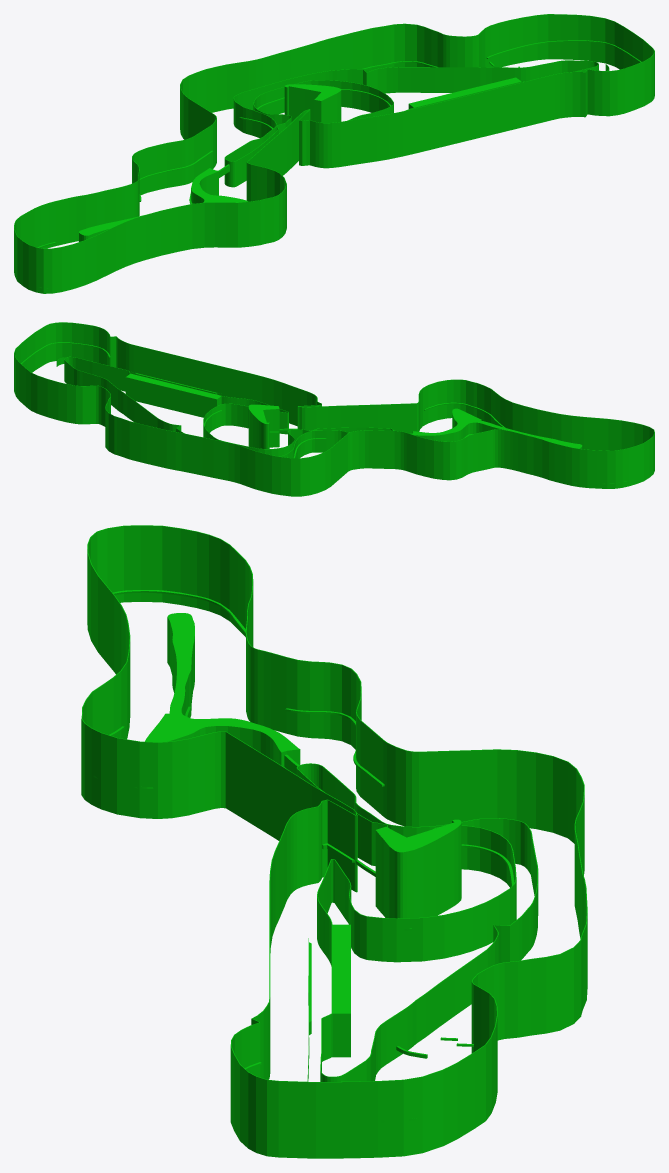
Rendered from nurburg_colliders.FBX.
3 views of the same model, one above another, from view 1: azimuth 30°, elevation 25°; view 2: azimuth 150°, elevation 25°; view 3: azimuth 270°, elevation 25° (orthographic). The views are drawn at different scales.
Parts seen in each view (by area): view 1: nurburg_collider_003, nurburg_collider_001, nurburg_collider_004, nurburg_collider_002, nurburg_collider_007, nurburg_collider_006; view 2: nurburg_collider_003, nurburg_collider_001, nurburg_collider_006, nurburg_collider_002, nurburg_collider_004, nurburg_collider_007; view 3: nurburg_collider_003, nurburg_collider_001, nurburg_collider_004, nurburg_collider_002, nurburg_collider_006, nurburg_collider_007.
Boxes of the visible parts, <box> form: nurburg_collider_003: <box>14,14,654,293</box>; nurburg_collider_001: <box>224,60,598,187</box>; nurburg_collider_004: <box>284,84,341,122</box>; nurburg_collider_002: <box>79,168,247,241</box>; nurburg_collider_007: <box>37,40,641,288</box>; nurburg_collider_006: <box>408,77,521,108</box>; nurburg_collider_003: <box>14,322,654,496</box>; nurburg_collider_001: <box>64,356,393,458</box>; nurburg_collider_006: <box>125,373,221,417</box>; nurburg_collider_002: <box>412,408,582,448</box>; nurburg_collider_004: <box>248,404,279,448</box>; nurburg_collider_007: <box>21,342,626,484</box>; nurburg_collider_003: <box>81,525,587,1158</box>; nurburg_collider_001: <box>296,763,538,1081</box>; nurburg_collider_004: <box>375,819,461,918</box>; nurburg_collider_002: <box>145,613,300,767</box>; nurburg_collider_006: <box>331,924,350,1057</box>; nurburg_collider_007: <box>93,590,514,1122</box>.
Bounding box in the file's own units: 31545 × 2015 × 12107.
